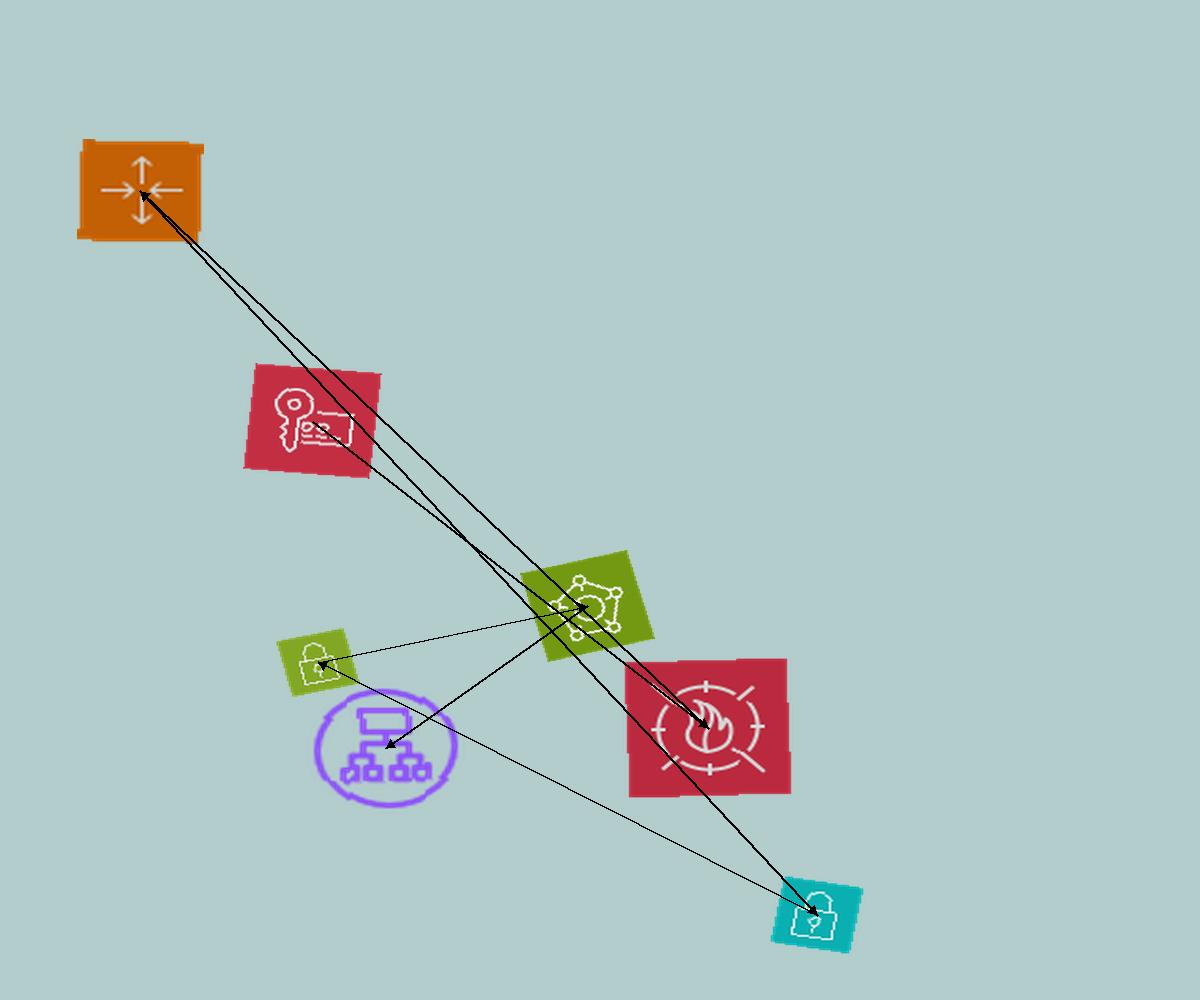AWS-Backup: (520, 550, 655, 662)
AWS-Key-Management-Service: (243, 363, 382, 479)
AWS-Private-subnet: (769, 875, 865, 955)
AWS-Public-subnet: (275, 627, 361, 698)
AWS-Res_Elastic-Load-Balancing_Application-Load-Balancer: (301, 678, 471, 819)
AWS-Scaling-group: (77, 139, 204, 244)
AWS-WAF: (623, 657, 793, 799)
